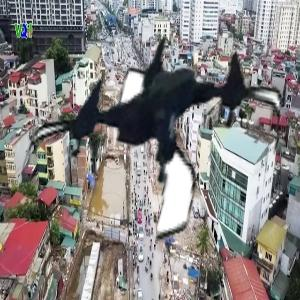drone: (37, 7, 282, 252)
